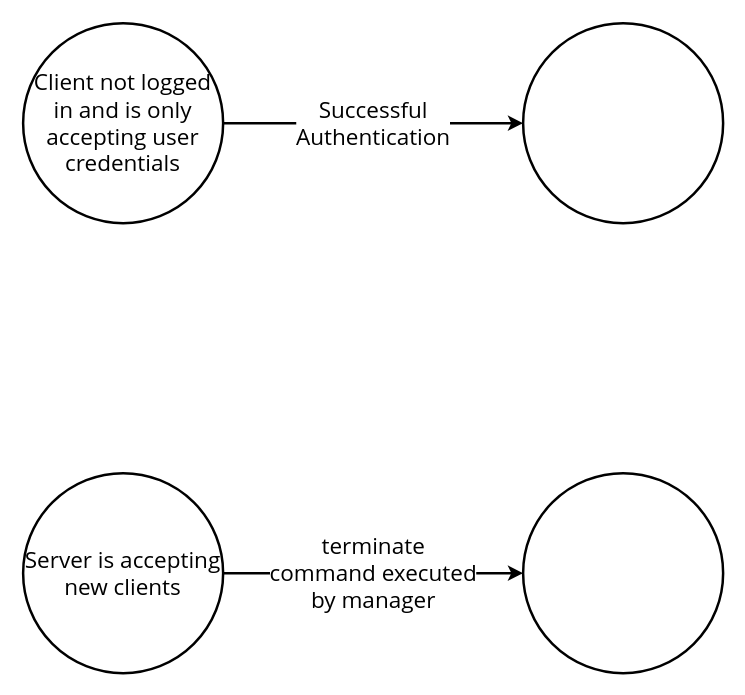
This 745x695 diagram has some shape labels left out. Each missing label, with the box of its shape:
Client logged in and is executing commands: (521, 21, 724, 224)
Server will not accept new clients and will terminate when no client is present: (521, 471, 724, 674)
